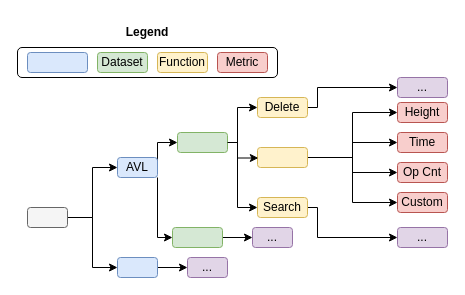
The diagram is 465 pixels wide and 295 high, and some of its shapes have lost their labels. Each missing label, with the centre of its shape:
BST: the point at 137,267
In Order: the point at 197,237
Insert: the point at 282,157
Random: the point at 202,142
Start: the point at 47,217
Tree Type: the point at 57,62
